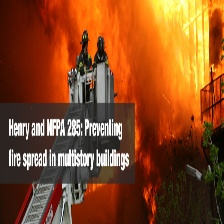fire: (160, 1, 221, 81)
smoke: (39, 3, 160, 96)
